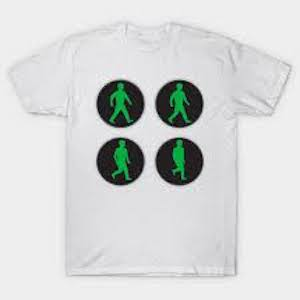green: (164, 137, 196, 184), (161, 83, 195, 127), (106, 136, 134, 183), (105, 83, 138, 122)
